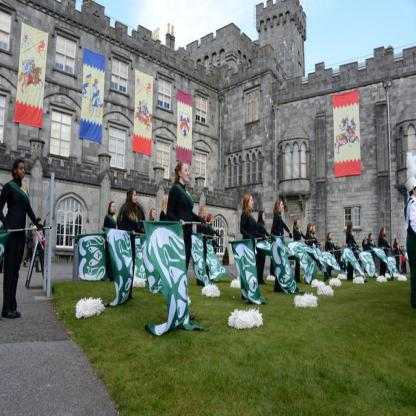face: (182, 164, 190, 181), (18, 164, 26, 180), (133, 191, 138, 204), (250, 197, 254, 209), (280, 202, 284, 211), (112, 204, 116, 213), (263, 213, 266, 222), (153, 210, 156, 218), (204, 208, 207, 216), (313, 226, 316, 232), (83, 230, 86, 235), (298, 220, 300, 227), (384, 228, 386, 235), (211, 217, 213, 223), (311, 226, 313, 231), (330, 234, 332, 239), (371, 235, 373, 240), (397, 238, 399, 243), (415, 187, 416, 195), (40, 221, 42, 225)
